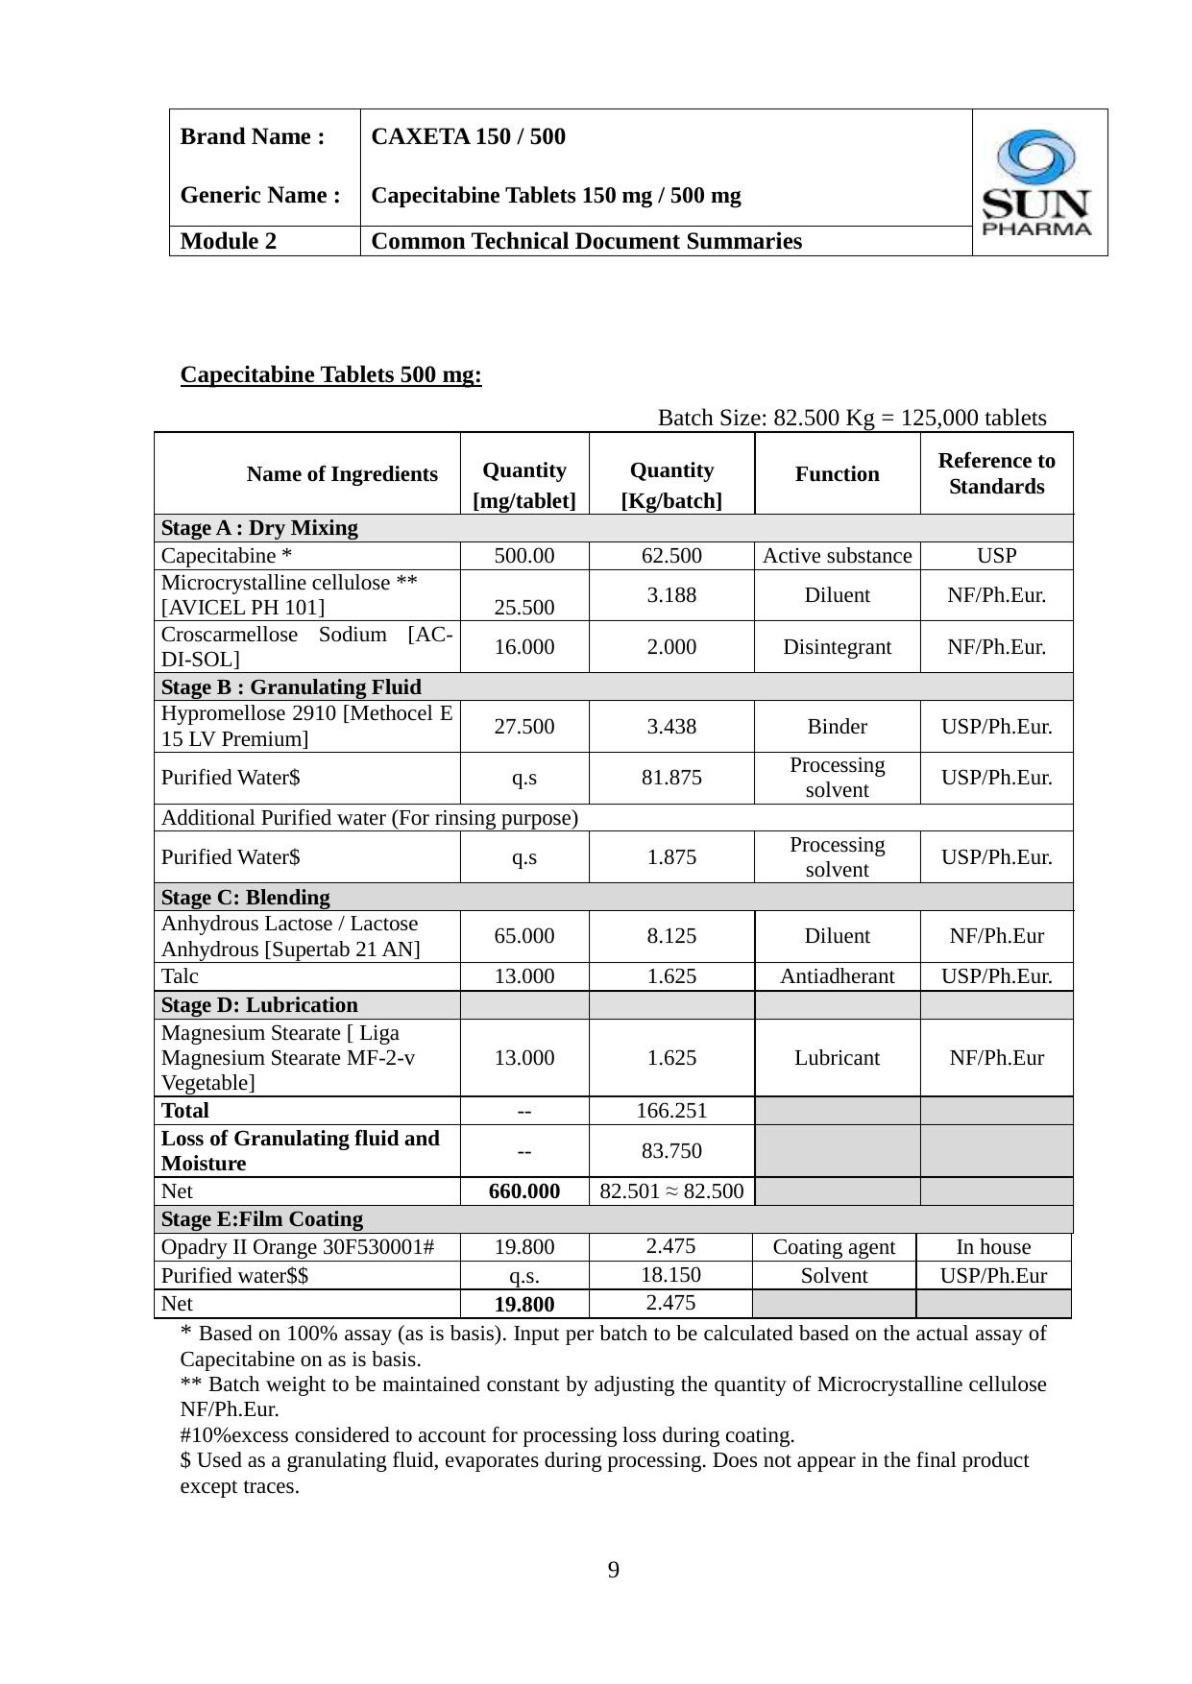merged_cells: (152, 428, 1075, 1320), (166, 106, 1109, 258)
